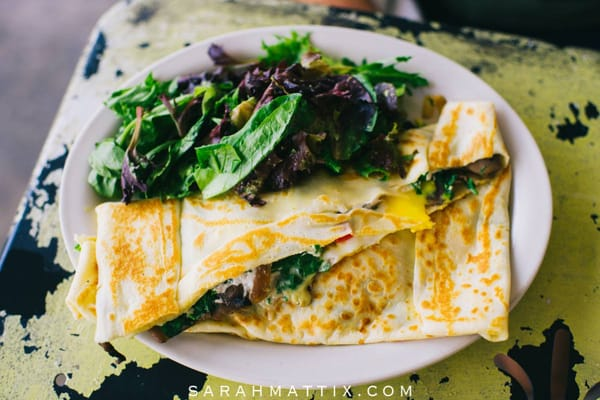soup: (81, 16, 538, 348)
